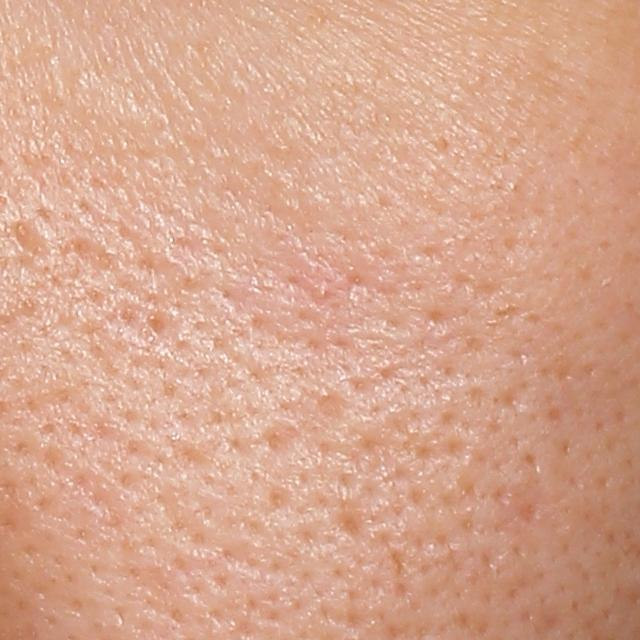atrophic_scar: (55, 232, 122, 278), (11, 219, 46, 261), (265, 424, 300, 454), (337, 514, 369, 546)
